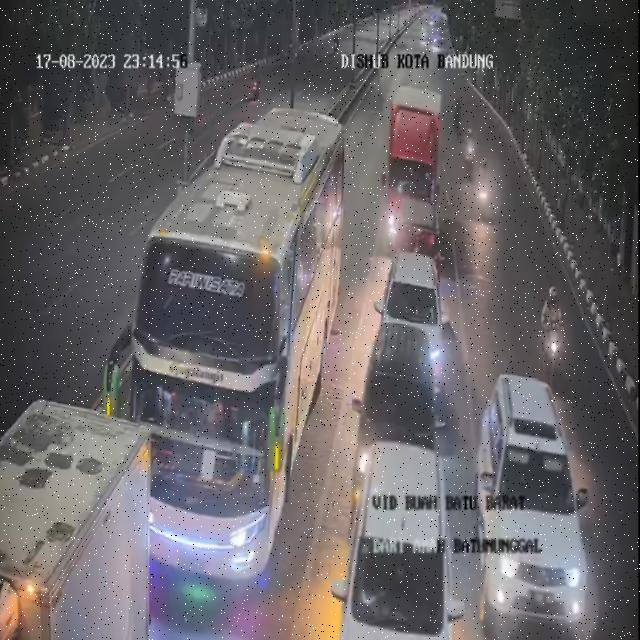bus: (132, 160, 290, 592)
cars: (0, 409, 153, 639), (473, 378, 584, 640), (336, 440, 464, 637), (352, 324, 442, 469), (376, 250, 451, 376)
motorcycle: (539, 283, 570, 387), (476, 155, 497, 225), (460, 112, 477, 180), (453, 96, 463, 136)
truck: (379, 81, 443, 265)
